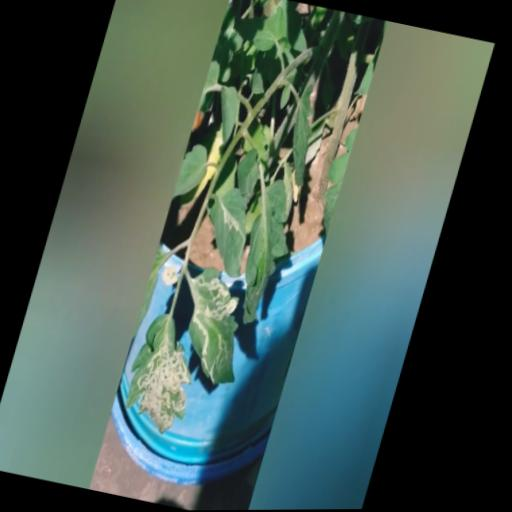Healthy: (174, 141, 215, 201), (207, 83, 245, 145)
Leaf_Miner: (169, 262, 269, 390), (120, 307, 216, 436), (195, 183, 268, 279)
